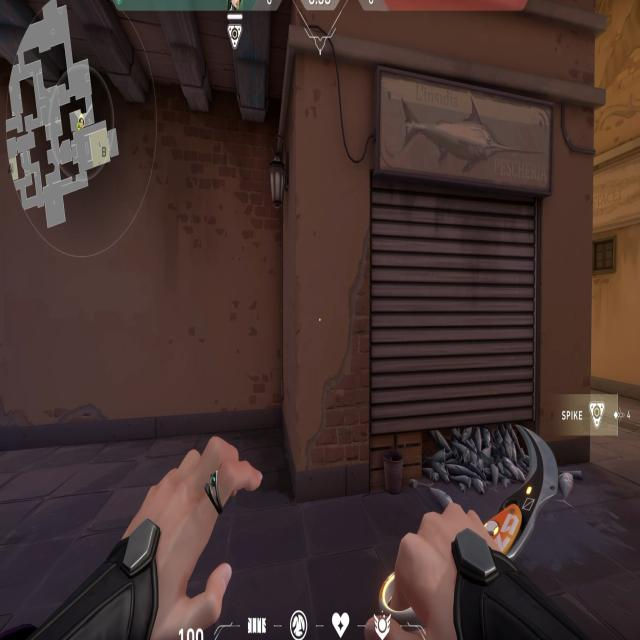B_Main_Corner: (297, 53, 551, 501)
